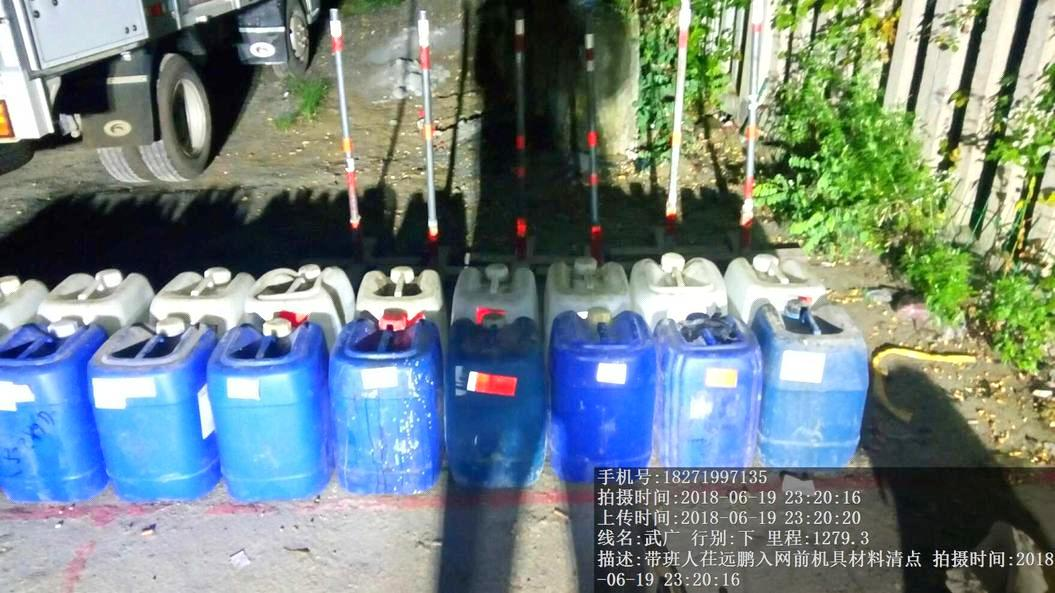SLT: (205, 319, 330, 500), (85, 315, 200, 499), (747, 294, 870, 466), (325, 319, 442, 496), (544, 304, 662, 470), (446, 324, 546, 491), (656, 312, 762, 469), (624, 249, 728, 312), (155, 260, 254, 322), (448, 260, 541, 325), (353, 264, 450, 318), (719, 253, 831, 299), (250, 268, 349, 318), (544, 253, 624, 310)
